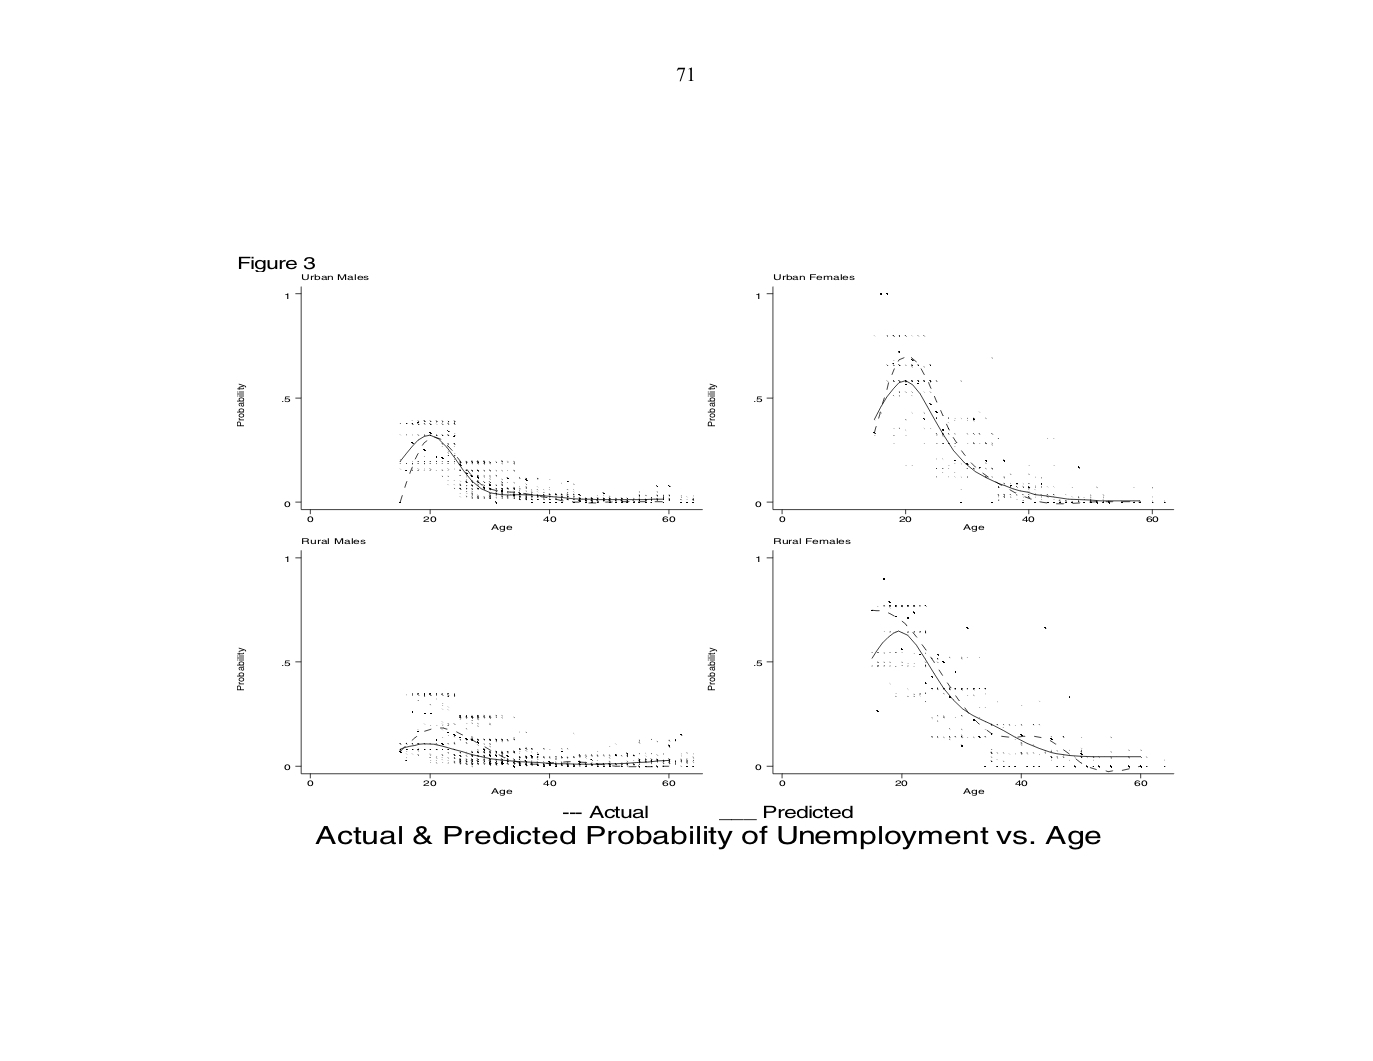figure: (754, 551, 1174, 794), (282, 288, 702, 529), (754, 286, 1174, 525), (282, 552, 702, 788)
